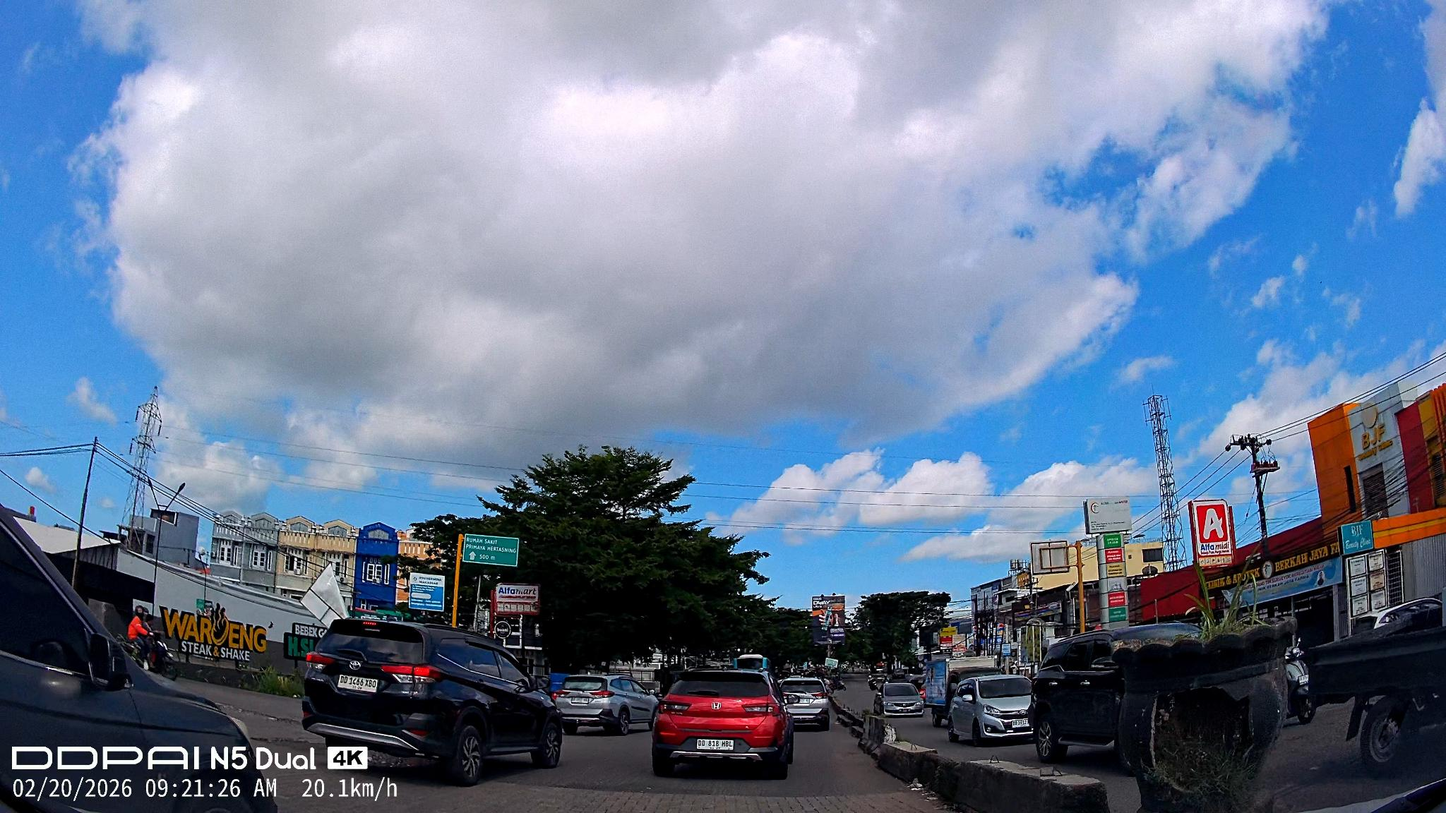rambu_teks: (462, 533, 520, 567)
